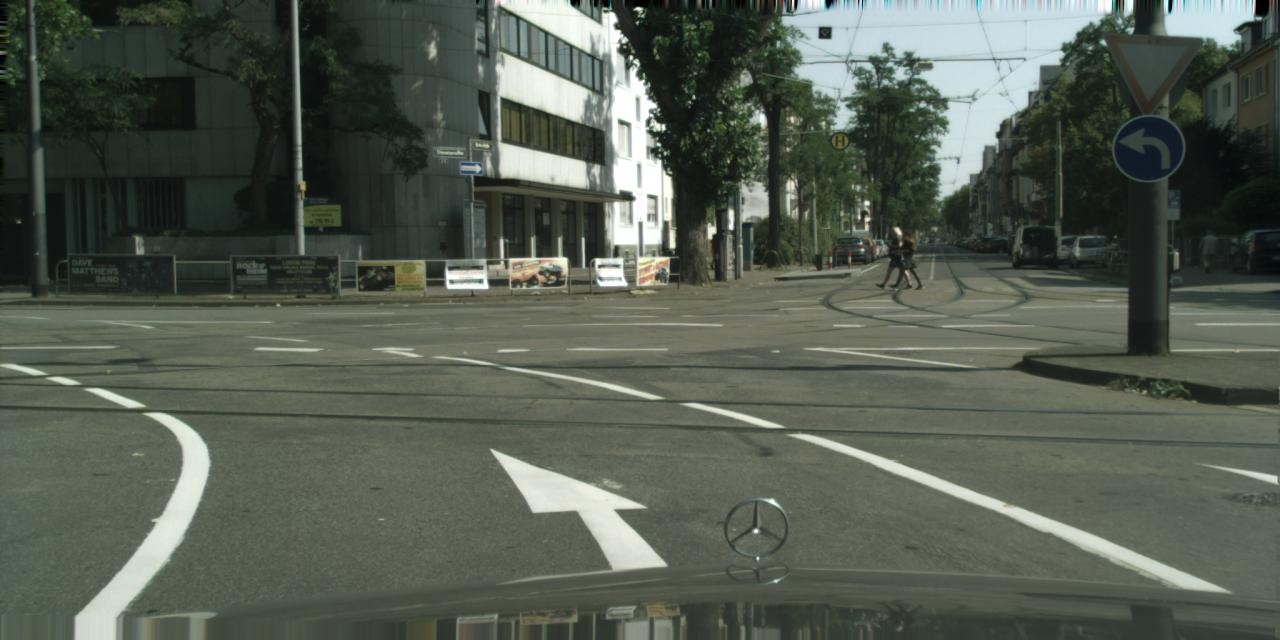ped: (894, 228, 919, 289), (882, 227, 906, 289), (1199, 230, 1217, 272), (708, 232, 723, 270)
